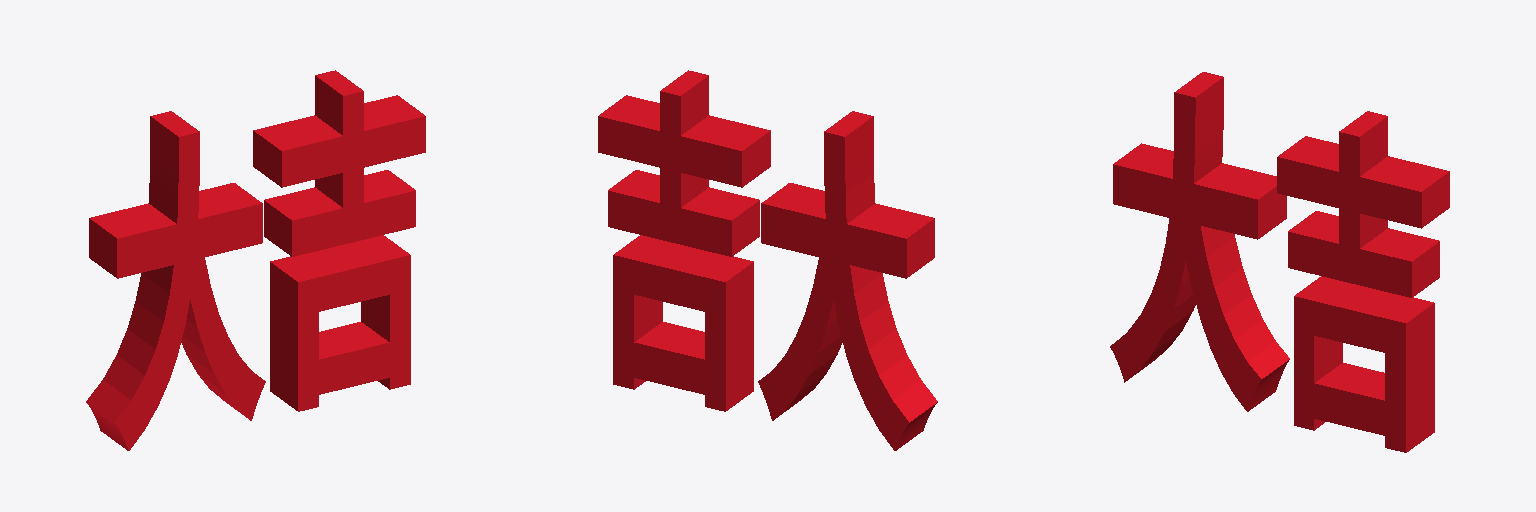
Rendered from tinker.obj.
3 views of the same model, side by side, from view 1: azimuth 30°, elevation 25°; view 2: azimuth 150°, elevation 25°; view 3: azimuth 330°, elevation 25° (orthographic).
Parts seen in each view (by area): view 1: obj_0; view 2: obj_0; view 3: obj_0.
Boxes of the visible parts, x1,y1,x2,y2 form: obj_0: [86, 70, 425, 450]; obj_0: [598, 70, 937, 450]; obj_0: [1110, 72, 1449, 452].
Size of the model in its own units: 183 by 171 by 29.